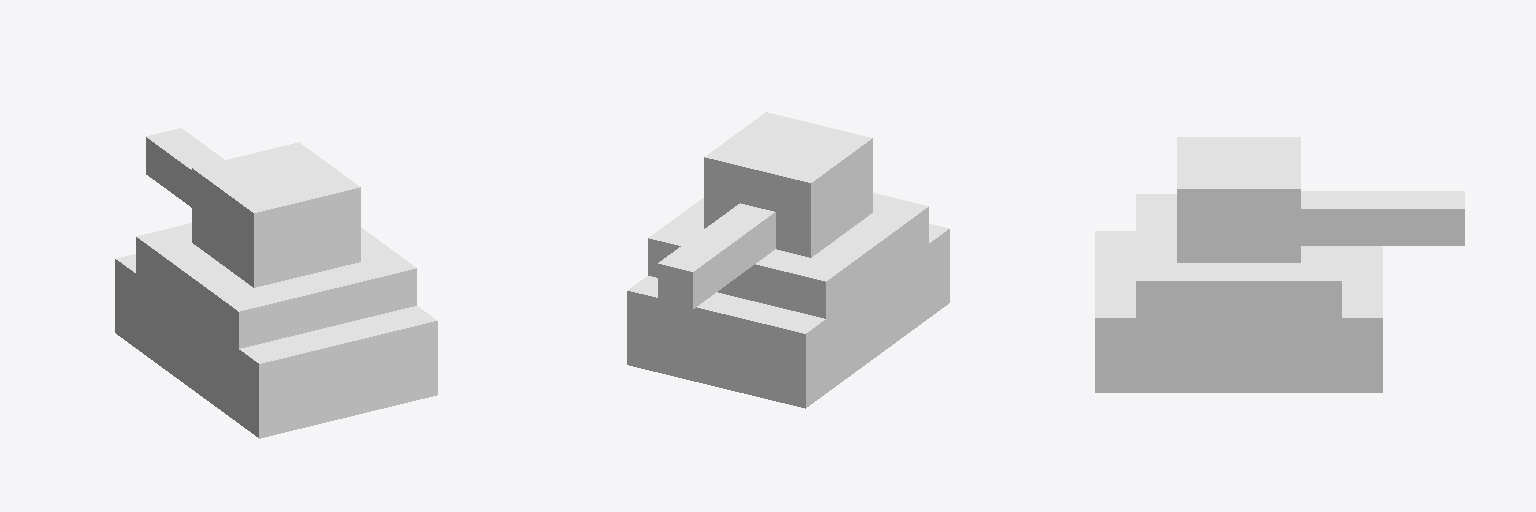
Rendered from USSherman.obj.
The picture shows the model from 3 angles: view 1: azimuth 30°, elevation 25°; view 2: azimuth 150°, elevation 25°; view 3: azimuth 270°, elevation 25°; orthographic projection.
Size of the model in its own units: 5 by 5 by 9.